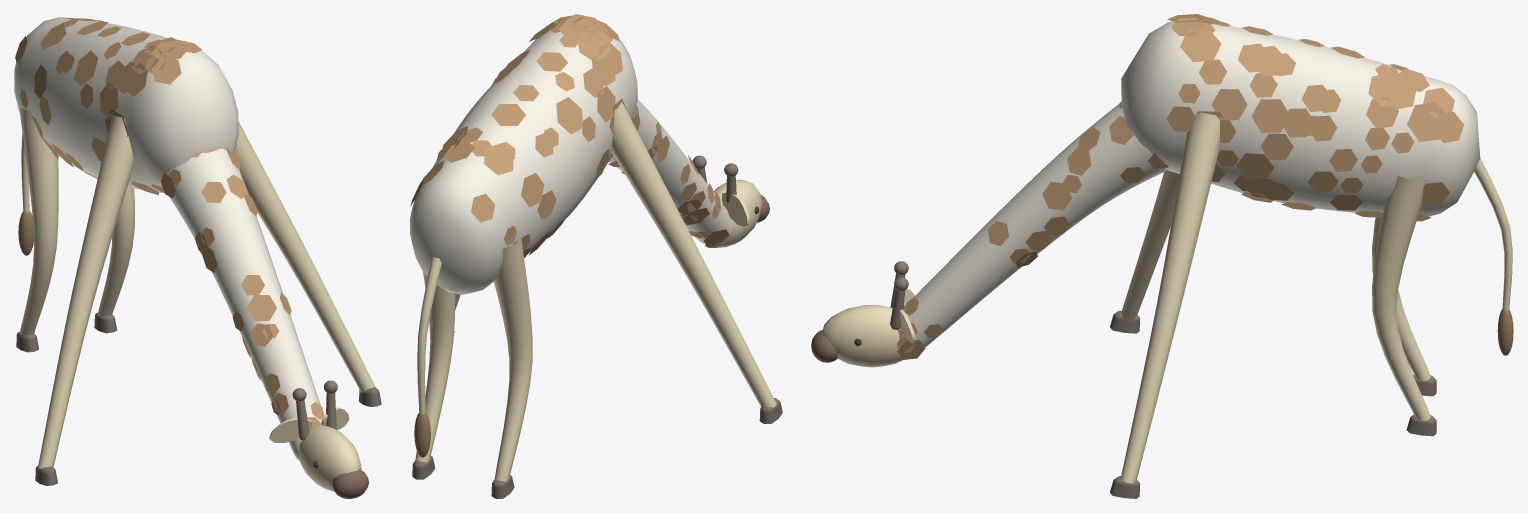
Rendered from savanna-wildlife-giraffe-drinking-a154dee5__6566.glb.
3 views of the same model, side by side, from view 1: azimuth 30°, elevation 25°; view 2: azimuth 150°, elevation 25°; view 3: azimuth 270°, elevation 25° (orthographic). The views are drawn at different scales.
Visible parts, largest first — view 1: giraffe-drinking; view 2: giraffe-drinking; view 3: giraffe-drinking.
Part boxes in pixels (x1,y1,x2,y2): giraffe-drinking: (14, 17, 381, 498); giraffe-drinking: (410, 14, 782, 498); giraffe-drinking: (811, 14, 1513, 498).
Size of the model in its own units: 3.03 by 3.23 by 5.21.
